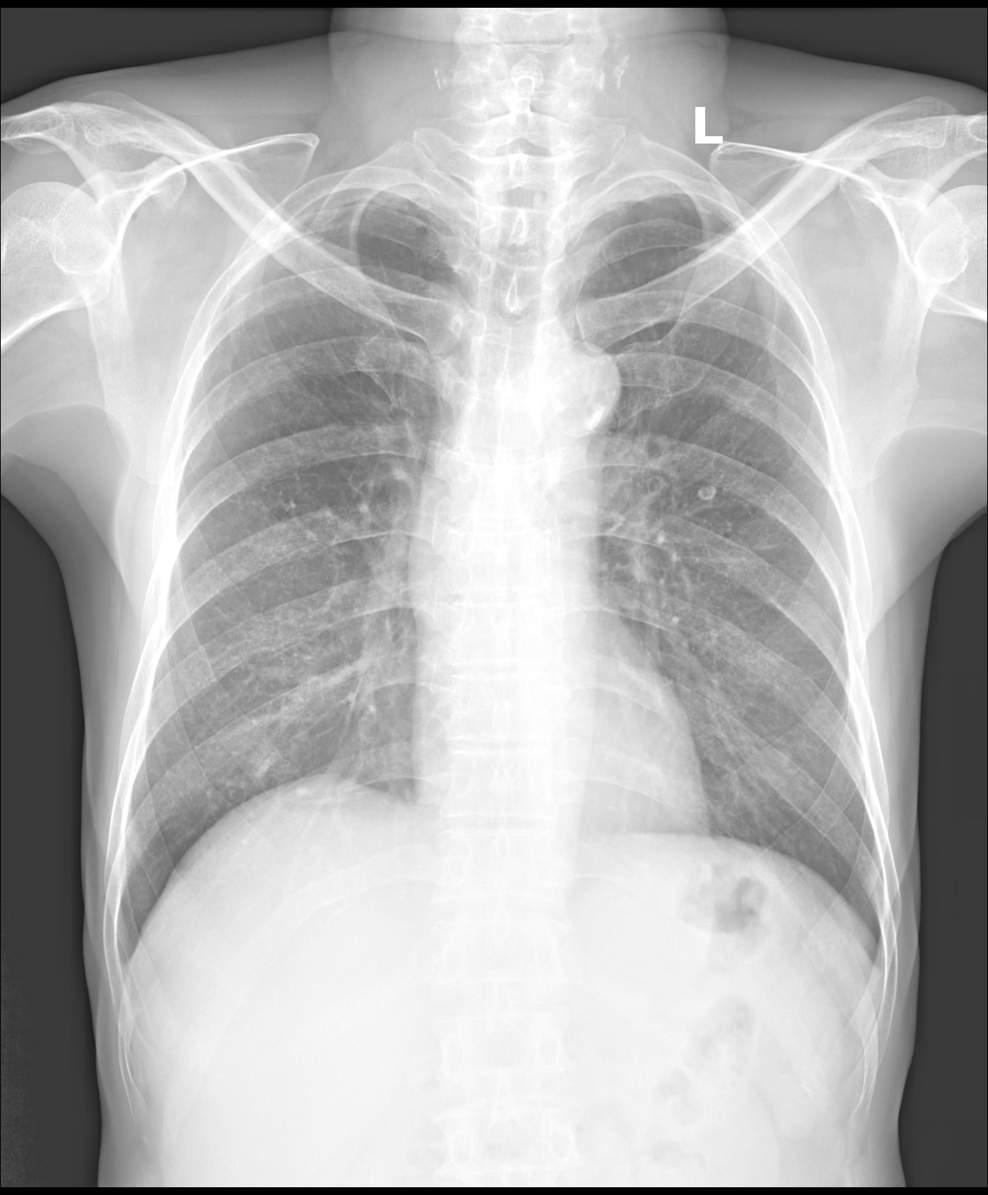Aortic enlargement: (520, 338, 627, 438)
